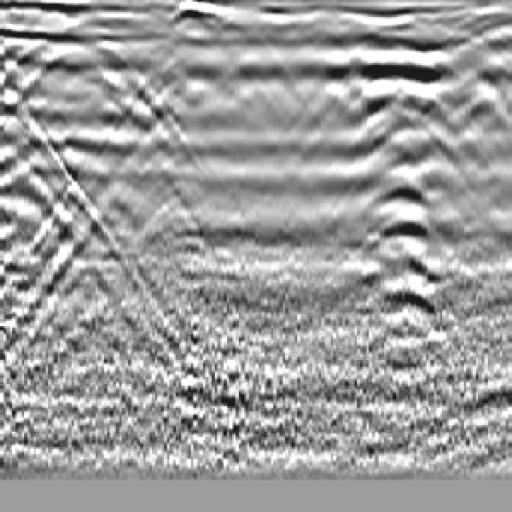non-metallic: (1, 23, 182, 266), (330, 30, 475, 287)
